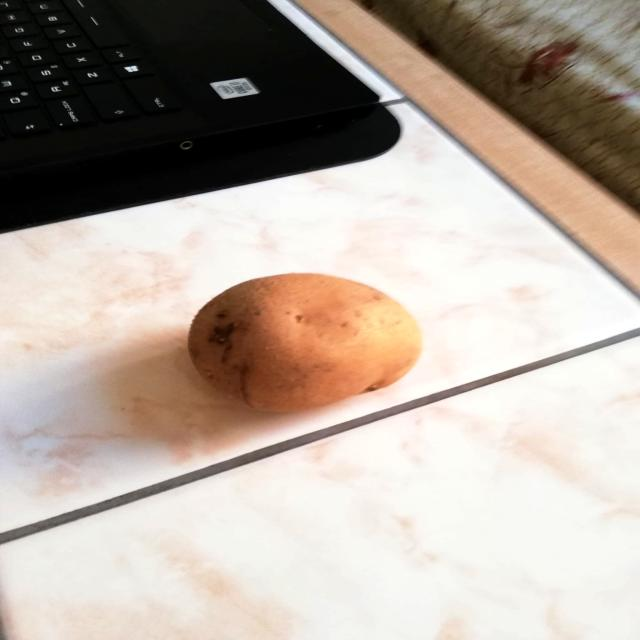potato: (179, 262, 428, 414)
